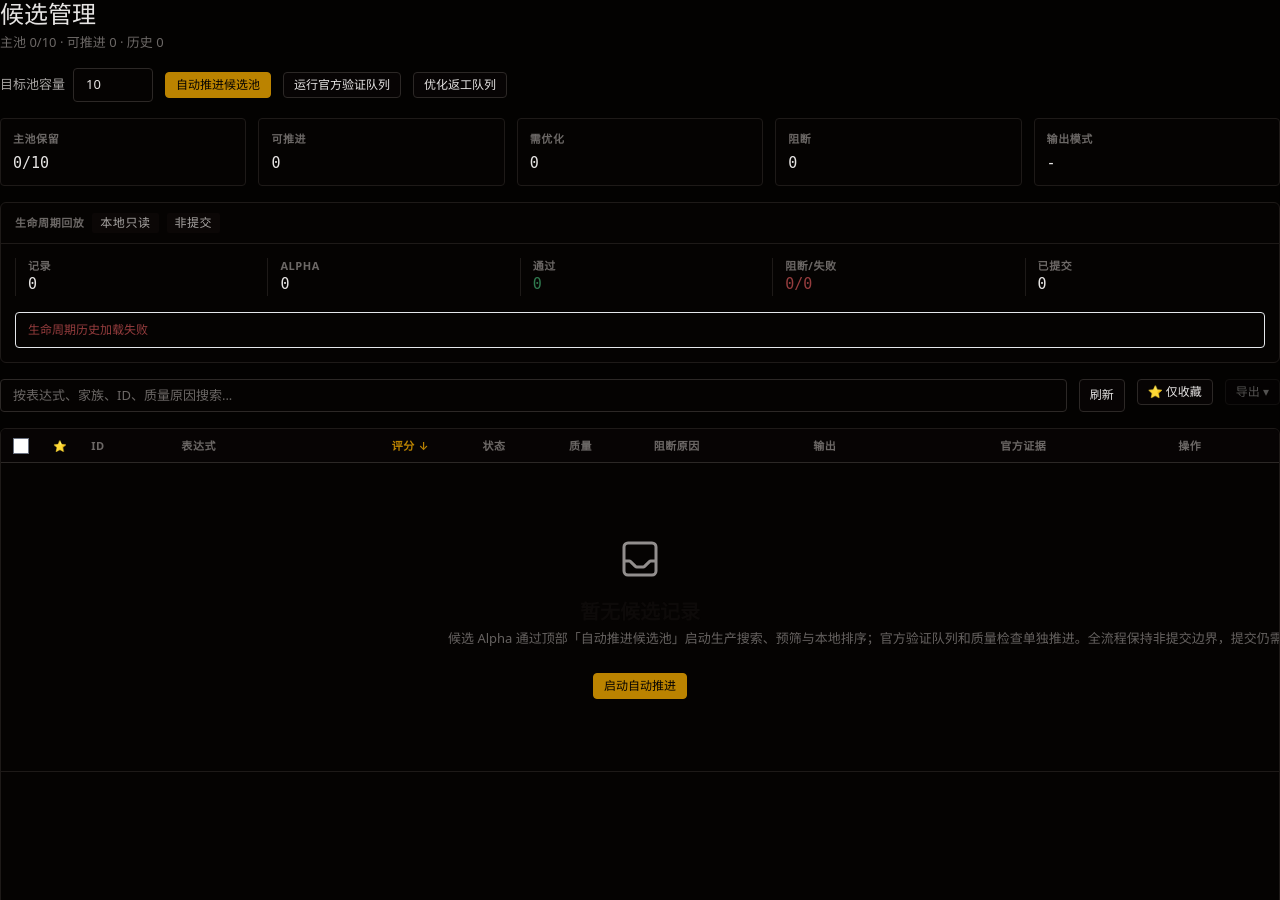
Test: CandidateTable › does not start official validation queue without resolved queue candidates
The width and height of the screenshot is (1280, 900).
Click the button "运行官方验证队列" at (342, 85), box 283,72 -> 401,98
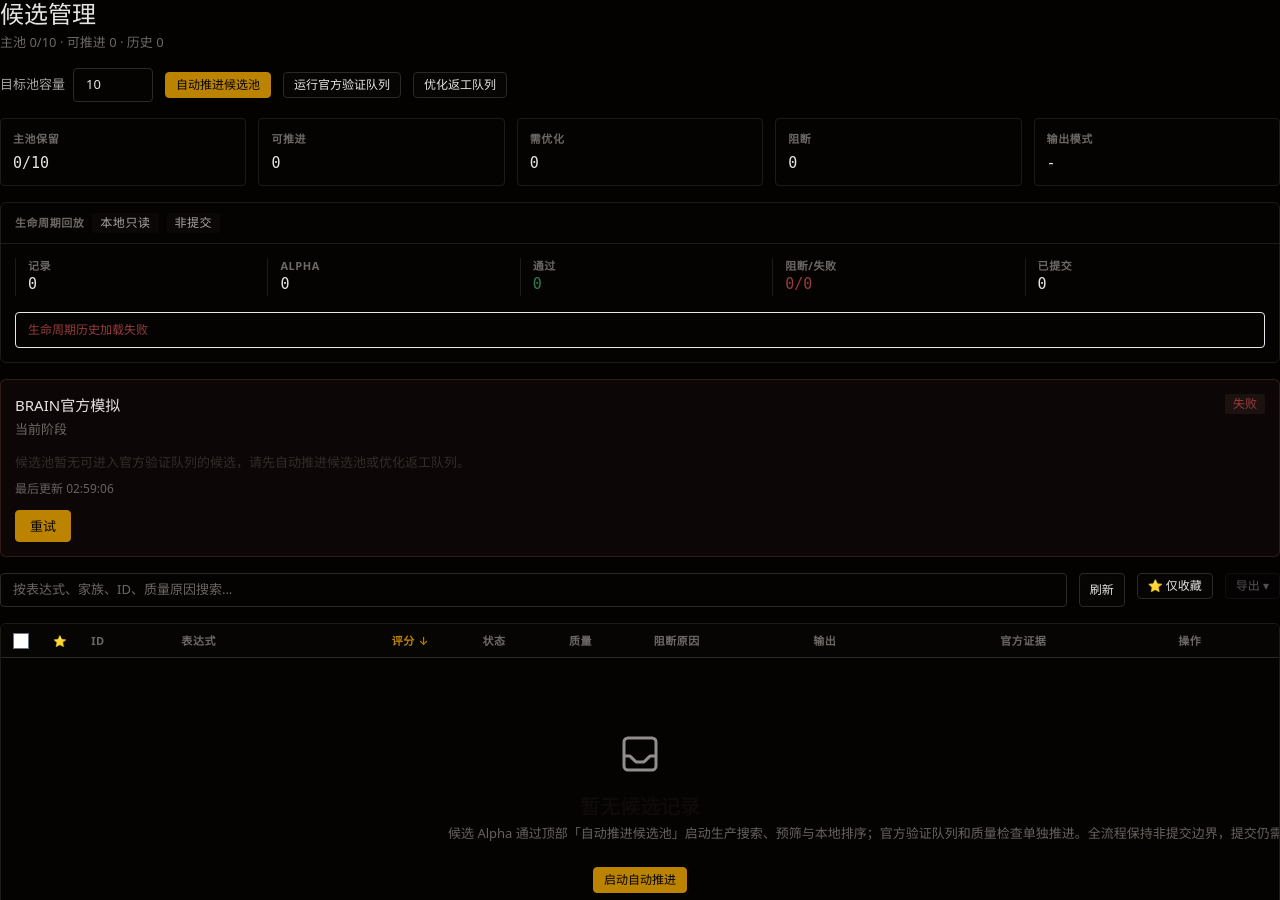
Check: the text "候选池暂无可进入官方验证队列的候选，请先自动推进候选池或优化返工队列。" is shown, box 15,452 -> 470,472
